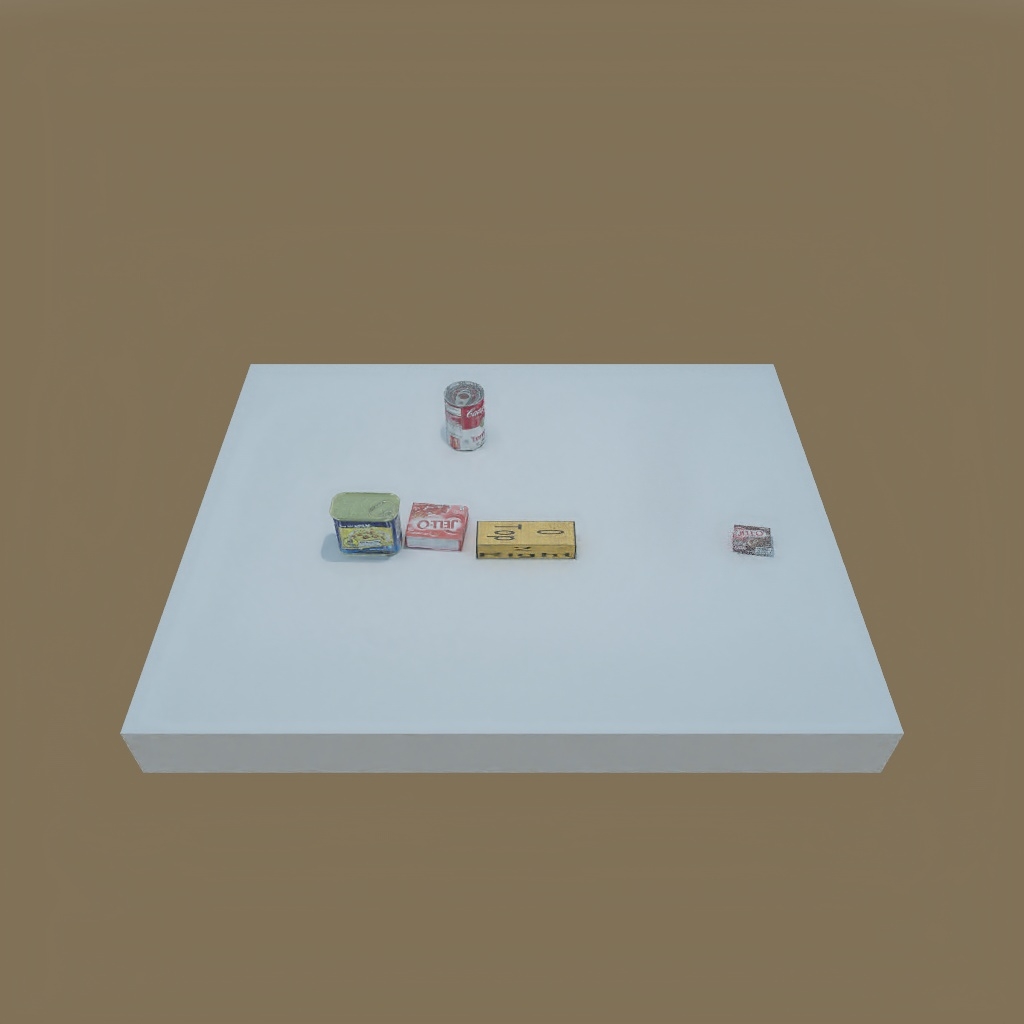gelatin_box: (401, 501, 472, 552)
jenga: (473, 514, 579, 564)
potted_meat_can: (330, 491, 404, 559)
pudding_box: (724, 520, 769, 557)
tomato_soup_can: (442, 378, 495, 453)
